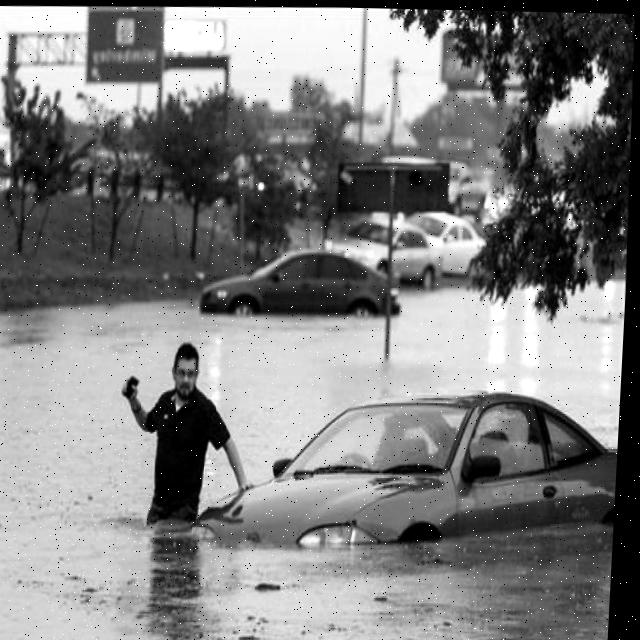civilian: (100, 323, 271, 555)
